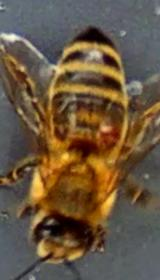varroa_mite: (90, 118, 124, 156)
